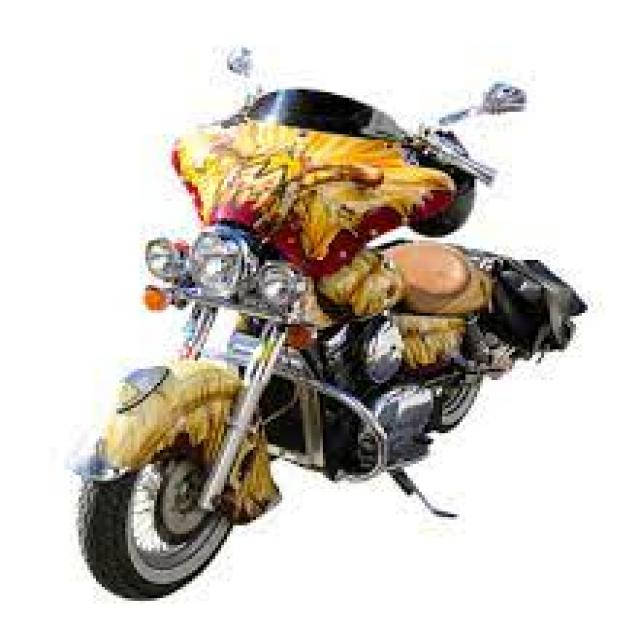Bike: (67, 44, 586, 602)
